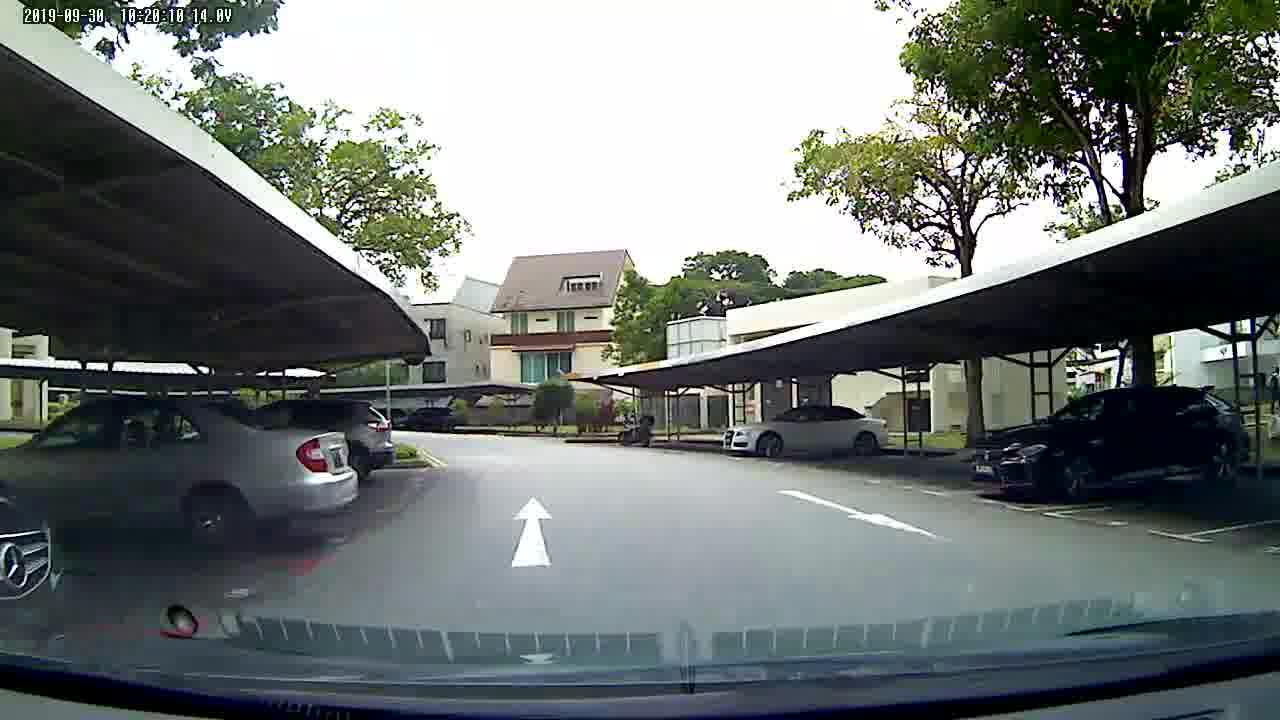car: (1, 385, 370, 555), (964, 390, 1263, 516), (720, 398, 899, 460)
